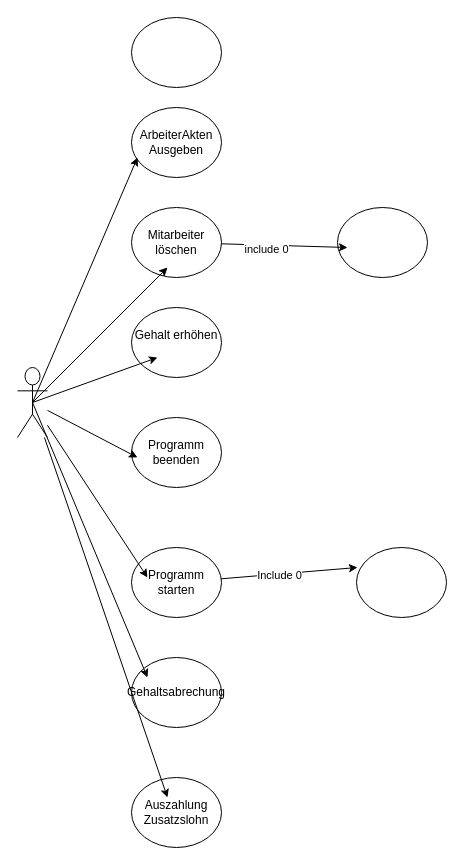
The diagram is 464 pixels wide and 865 high, and some of its shapes have lost their labels. The box of each missing label's shape, as (x1, y1, x2, y2) in pixels:
Actor: (16, 366, 48, 438)
Alte Liste einfügen: (336, 206, 428, 278)
Mitarbeiter aus Datei auslesen: (356, 546, 446, 618)
Mitarbeiter Vermehren: (130, 16, 222, 88)
